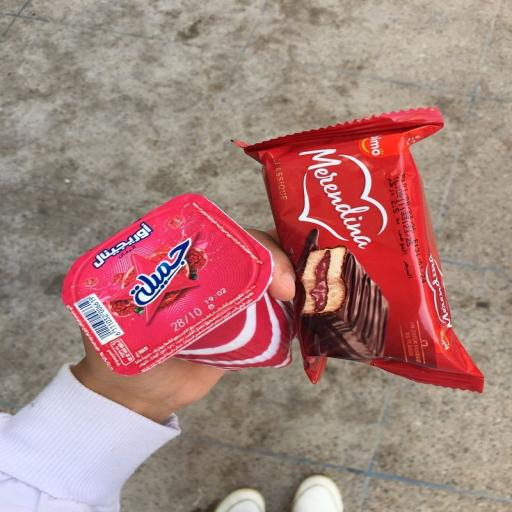merendina: (188, 119, 489, 403)
